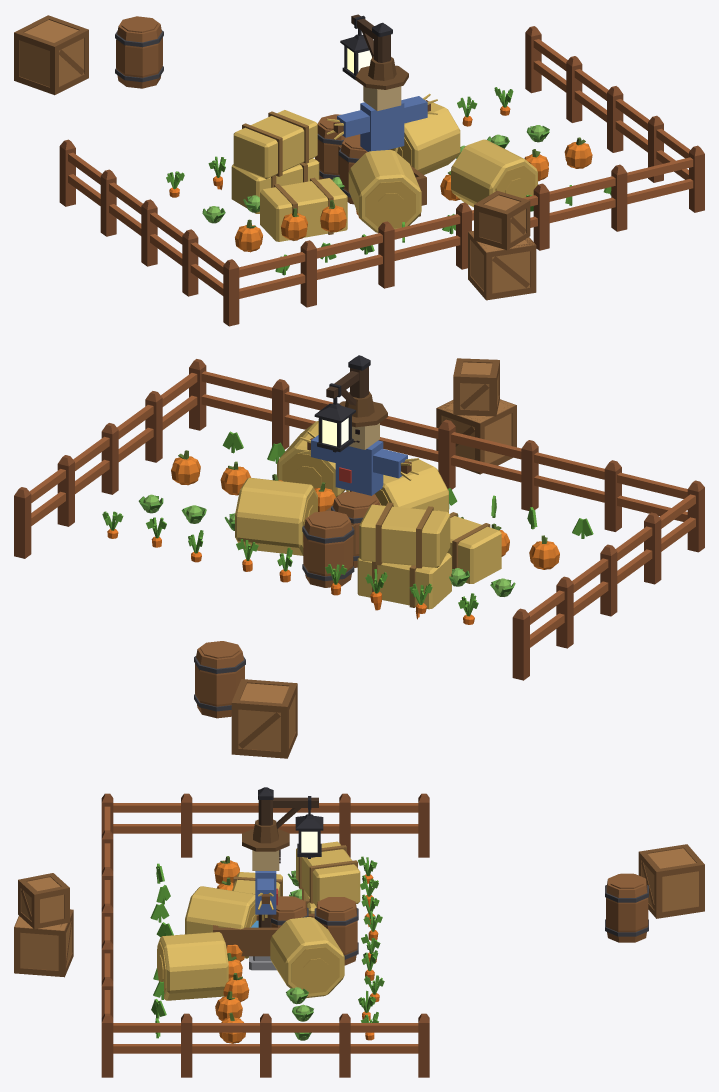
The model's file is w1_farm.fbx.
3 views of the same model, one above another, from view 1: azimuth 30°, elevation 25°; view 2: azimuth 150°, elevation 25°; view 3: azimuth 270°, elevation 25° (orthographic). The views are drawn at different scales.
Parts seen in each view (by area): view 1: HayYard.Hay, CropField.FenceRail, CropField.FencePost, CottageYard.DarkWood, CottageYard.Crate, CropField.Pumpkin, HayYard.HayEnd, CropField.Cloth, BarnYard.DarkWood, BarnYard.Barrel, BarnYard.Crate, CottageYard.Barrel (+9 smaller); view 2: HayYard.Hay, CropField.FenceRail, CropField.FencePost, CottageYard.Barrel, CropField.Sprout, CottageYard.DarkWood, CropField.Cloth, BarnYard.Barrel, BarnYard.DarkWood, CottageYard.Crate, CropField.Pumpkin, BarnYard.Crate (+9 smaller); view 3: HayYard.Hay, CropField.FenceRail, CropField.FencePost, BarnYard.DarkWood, CottageYard.DarkWood, CropField.Sprout, CottageYard.Crate, BarnYard.Barrel, CottageYard.Barrel, HayYard.HayEnd, CropField.Pumpkin, BarnYard.Crate (+11 smaller).
Boxes of the visible parts, x1=… form: HayYard.Hay: x1=231, y1=101, x2=537, y2=241; CropField.FenceRail: x1=68, y1=39, x2=693, y2=298; CropField.FencePost: x1=59, y1=26, x2=704, y2=326; CottageYard.DarkWood: x1=468, y1=190, x2=536, y2=300; CottageYard.Crate: x1=470, y1=195, x2=533, y2=293; CropField.Pumpkin: x1=235, y1=142, x2=592, y2=252; HayYard.HayEnd: x1=365, y1=137, x2=535, y2=228; CropField.Cloth: x1=337, y1=96, x2=427, y2=151; BarnYard.DarkWood: x1=14, y1=15, x2=426, y2=216; BarnYard.Barrel: x1=116, y1=16, x2=162, y2=88; BarnYard.Crate: x1=19, y1=20, x2=84, y2=86; CottageYard.Barrel: x1=315, y1=114, x2=367, y2=204; HayYard.Hay: x1=235, y1=421, x2=501, y2=609; CropField.FenceRail: x1=29, y1=371, x2=695, y2=647; CropField.FencePost: x1=14, y1=359, x2=704, y2=680; CottageYard.Barrel: x1=303, y1=491, x2=379, y2=587; CropField.Sprout: x1=102, y1=431, x2=593, y2=616; CottageYard.DarkWood: x1=436, y1=358, x2=516, y2=474; CropField.Cloth: x1=311, y1=435, x2=407, y2=495; BarnYard.Barrel: x1=195, y1=641, x2=244, y2=718; BarnYard.DarkWood: x1=231, y1=504, x2=382, y2=758; CottageYard.Crate: x1=438, y1=362, x2=514, y2=463; CropField.Pumpkin: x1=171, y1=456, x2=559, y2=569; BarnYard.Crate: x1=238, y1=683, x2=295, y2=751; HayYard.Hay: x1=157, y1=841, x2=360, y2=1000; CropField.FenceRail: x1=104, y1=803, x2=418, y2=1053; CropField.FencePost: x1=101, y1=793, x2=429, y2=1077; BarnYard.DarkWood: x1=213, y1=844, x2=704, y2=956; CottageYard.DarkWood: x1=14, y1=873, x2=73, y2=977; CropField.Sprout: x1=150, y1=856, x2=384, y2=1038; CottageYard.Crate: x1=15, y1=877, x2=71, y2=970; BarnYard.Barrel: x1=606, y1=873, x2=648, y2=942; CottageYard.Barrel: x1=271, y1=896, x2=357, y2=965; HayYard.HayEnd: x1=157, y1=903, x2=339, y2=994; CropField.Pumpkin: x1=214, y1=860, x2=249, y2=1043; BarnYard.Crate: x1=641, y1=848, x2=698, y2=911.
Size of the model in its own units: 25.55 by 9.38 by 33.18.
